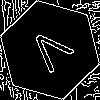V: (25, 25, 82, 81)
